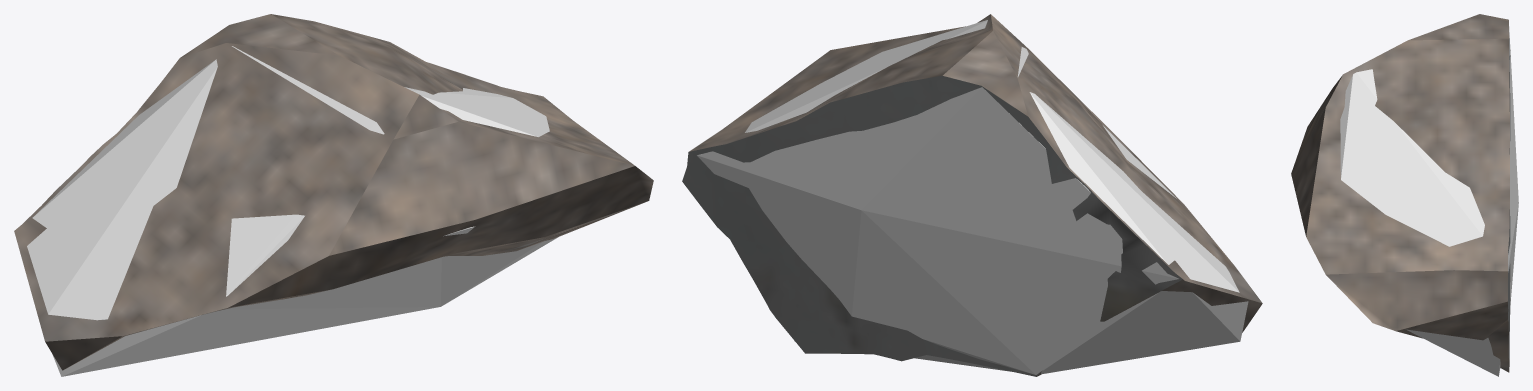
Rendered from SM_Rock_15.fbx.
3 renders of one model, left to right at view 1: azimuth 30°, elevation 25°; view 2: azimuth 150°, elevation 25°; view 3: azimuth 270°, elevation 25°, orthographic. The views are drawn at different scales.
Visible parts, largest first — view 1: SM_Rock_15_LOD0, SM_Rock_15_ConvexHulls; view 2: SM_Rock_15_ConvexHulls, SM_Rock_15_LOD0; view 3: SM_Rock_15_LOD0, SM_Rock_15_ConvexHulls.
Part boxes in pixels (bbox=[...]): SM_Rock_15_LOD0: bbox=[14, 14, 653, 370]; SM_Rock_15_ConvexHulls: bbox=[27, 46, 558, 376]; SM_Rock_15_ConvexHulls: bbox=[697, 20, 1248, 374]; SM_Rock_15_LOD0: bbox=[682, 14, 1262, 376]; SM_Rock_15_LOD0: bbox=[1291, 14, 1510, 372]; SM_Rock_15_ConvexHulls: bbox=[1340, 26, 1518, 376].
Size of the model in its own units: 41.91 by 17.21 by 23.03.
